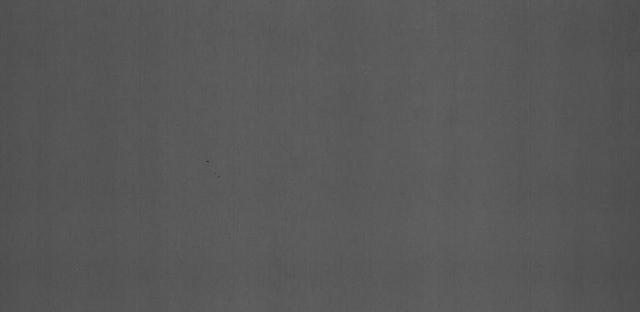inclusion: (193, 153, 226, 183)
